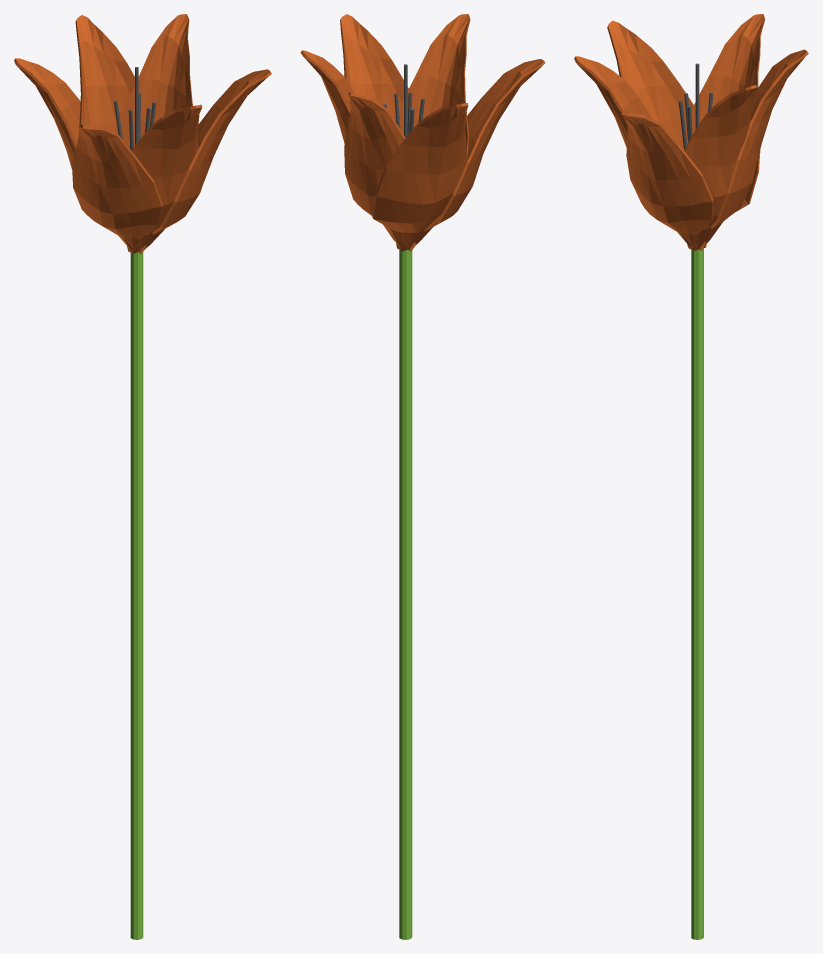
File: liliya_orange.dae
The picture shows the model from 3 angles, left to right: view 1: azimuth 30°, elevation 25°; view 2: azimuth 150°, elevation 25°; view 3: azimuth 270°, elevation 25°; orthographic projection.
Parts seen in each view (by area): view 1: Cylinder; view 2: Cylinder; view 3: Cylinder.
Part boxes in pixels (left/top/right/bottom): Cylinder: left=14, top=14, right=271, bottom=939; Cylinder: left=300, top=14, right=545, bottom=939; Cylinder: left=574, top=14, right=808, bottom=939.
Bounding box in the file's own units: 2.38 × 2.46 × 10.29.
